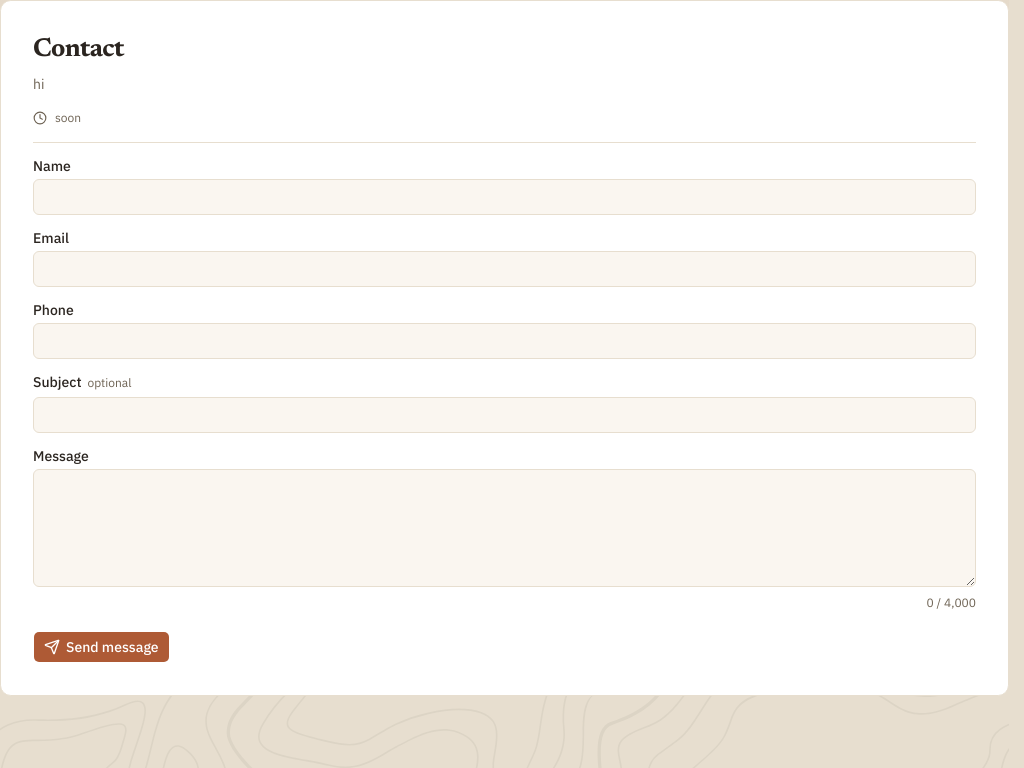
Test case: ContactForm › blocks an empty submit client-side
Click the button "Send message" at (101, 647), box [33, 631, 170, 663]
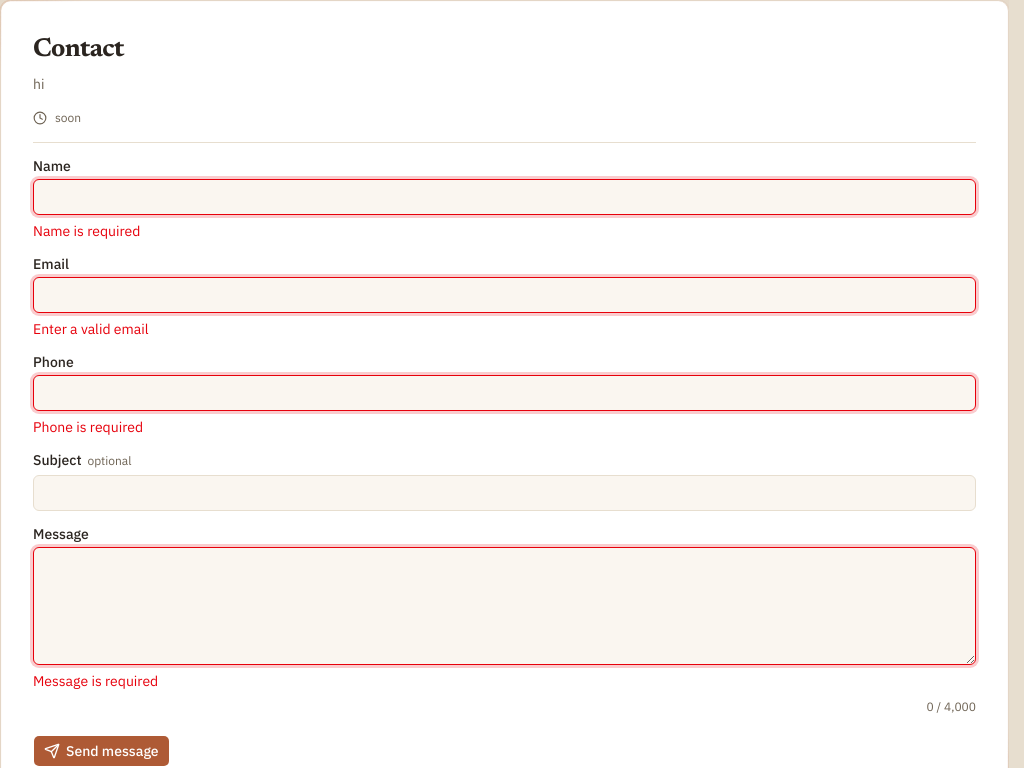
Expected: the text "Name is required" is shown, [33, 222, 140, 240]
